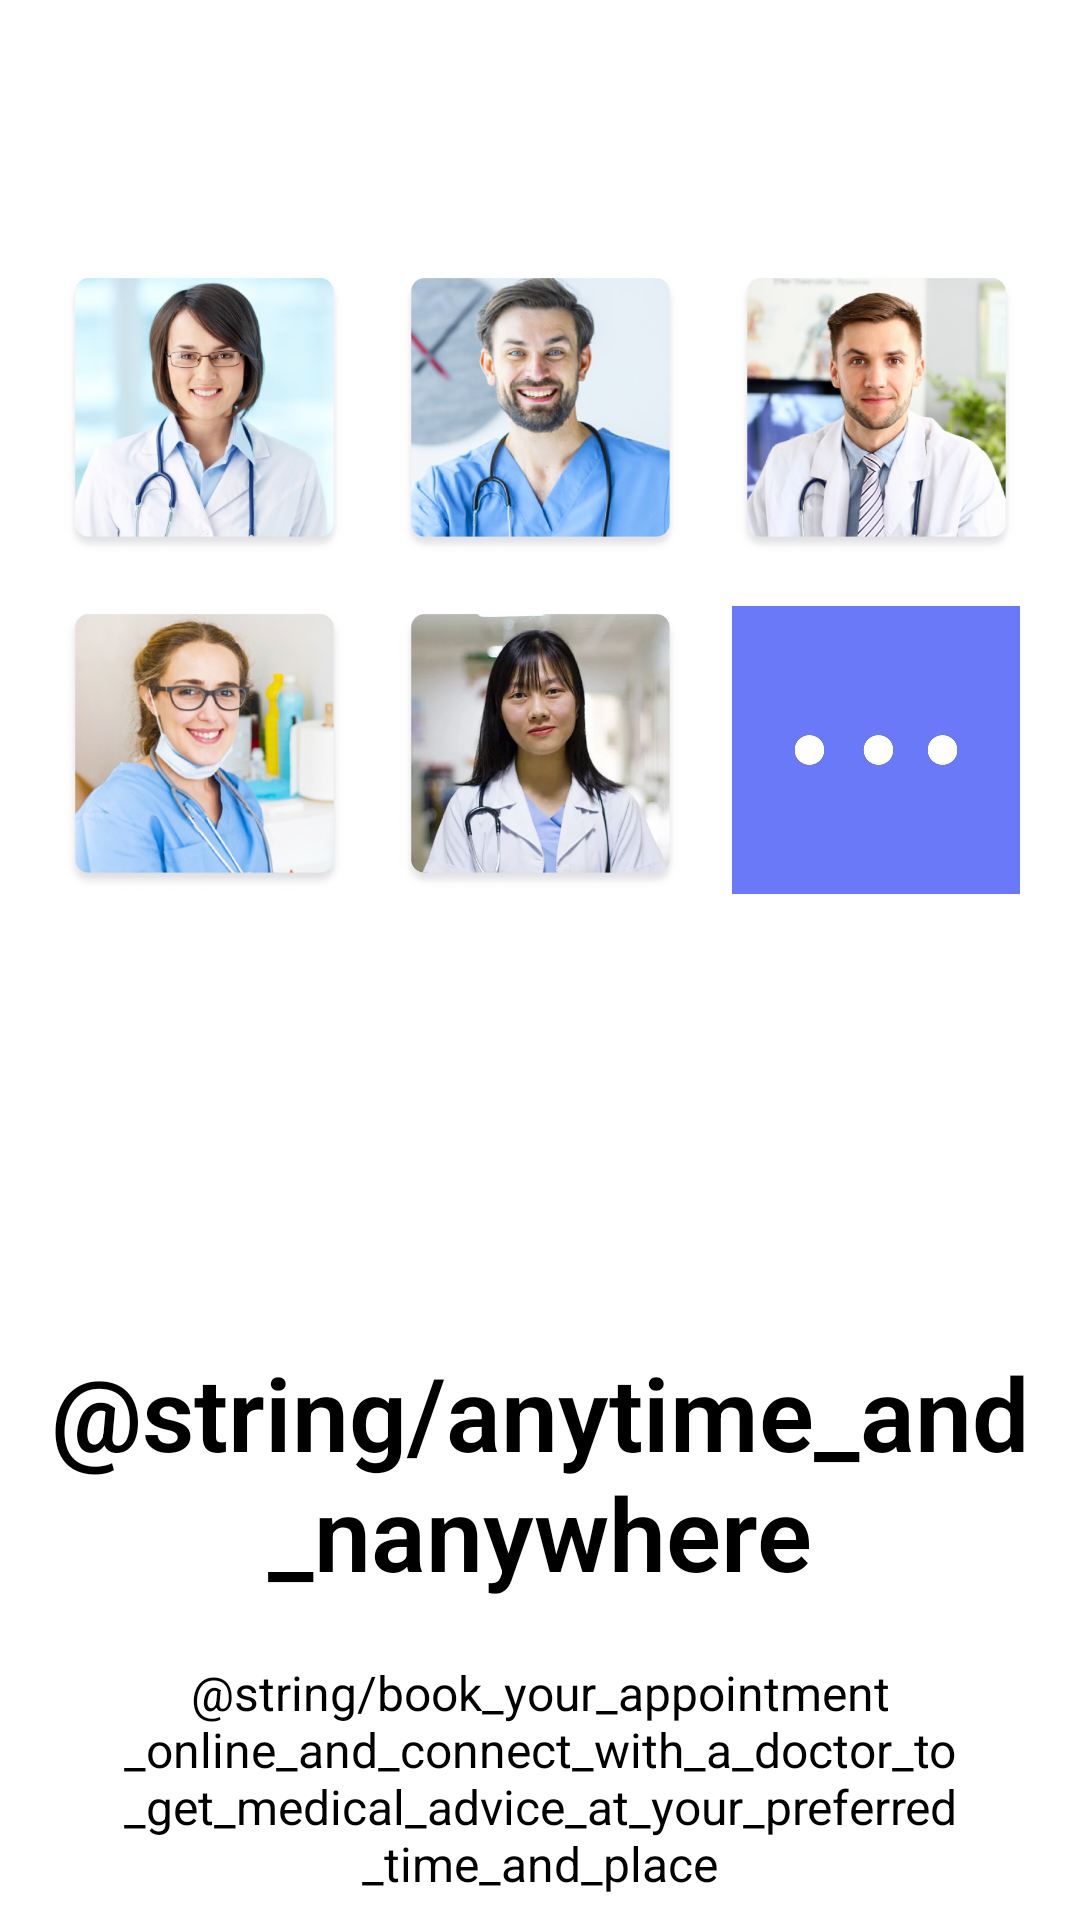

Icon click points for this 1080*1920 phone screenshot, format (x=x, y=y):
three dots: (x=876, y=750)
